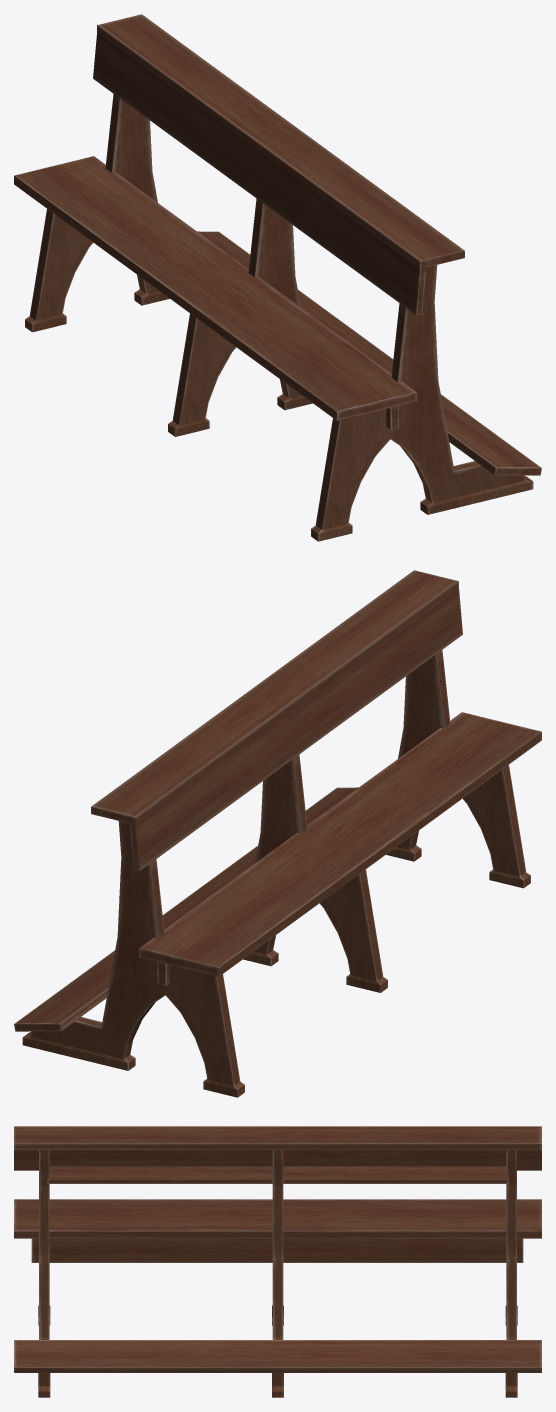
The model's file is church_Bench.fbx.
The picture shows the model from 3 angles, top to bottom: view 1: azimuth 30°, elevation 25°; view 2: azimuth 150°, elevation 25°; view 3: azimuth 270°, elevation 25°; orthographic projection. The views are drawn at different scales.
Parts seen in each view (by area): view 1: bench; view 2: bench; view 3: bench.
Boxes of the visible parts, x1,y1,x2,y2 form: bench: (14,14,541,541); bench: (14,570,541,1097); bench: (14,1126,541,1397).
Bounding box in the file's own units: 76.62 × 91.78 × 199.
